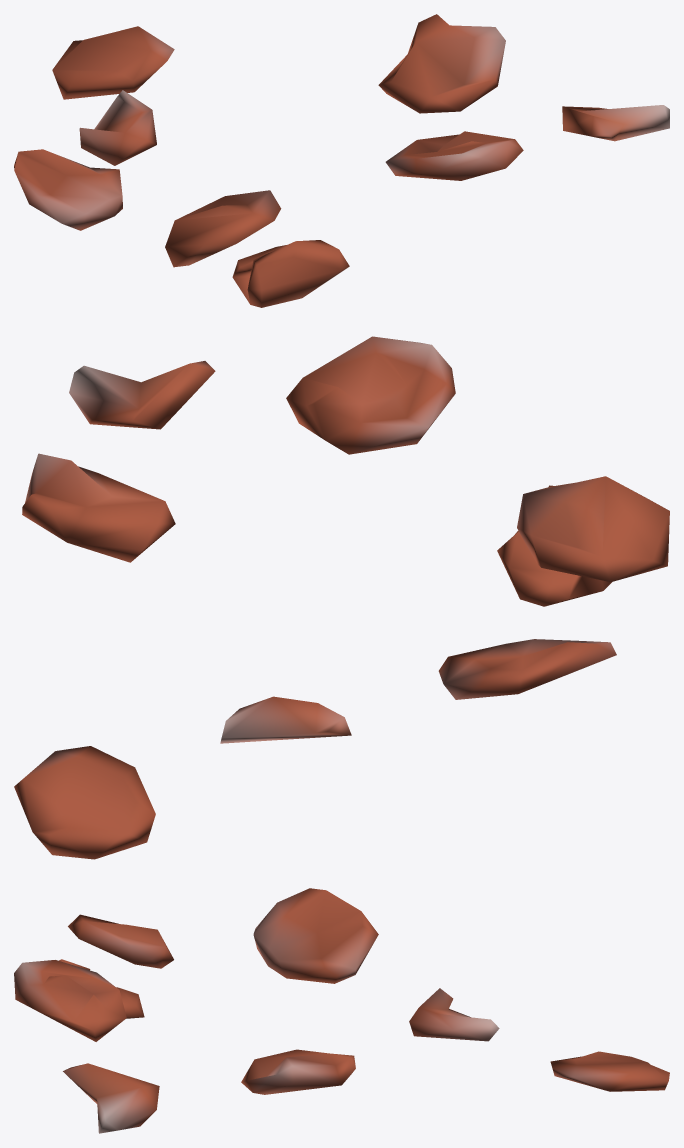
3 renders of one model, top to bottom at view 1: azimuth 30°, elevation 25°; view 2: azimuth 150°, elevation 25°; view 3: azimuth 270°, elevation 25°, orthographic. The views are drawn at different scales.
Parts seen in each view (by area): view 1: LOD 5_14118979198586646984_820756dedd5b3434c8e6bed8ae6a193b; view 2: LOD 5_14118979198586646984_820756dedd5b3434c8e6bed8ae6a193b; view 3: LOD 5_14118979198586646984_820756dedd5b3434c8e6bed8ae6a193b.
Boxes of the visible parts, x1,y1,x2,y2 form: LOD 5_14118979198586646984_820756dedd5b3434c8e6bed8ae6a193b: (14, 14, 669, 307); LOD 5_14118979198586646984_820756dedd5b3434c8e6bed8ae6a193b: (14, 336, 669, 859); LOD 5_14118979198586646984_820756dedd5b3434c8e6bed8ae6a193b: (14, 888, 669, 1133).
Size of the model in its own units: 2.55 by 0.7135 by 2.91.
